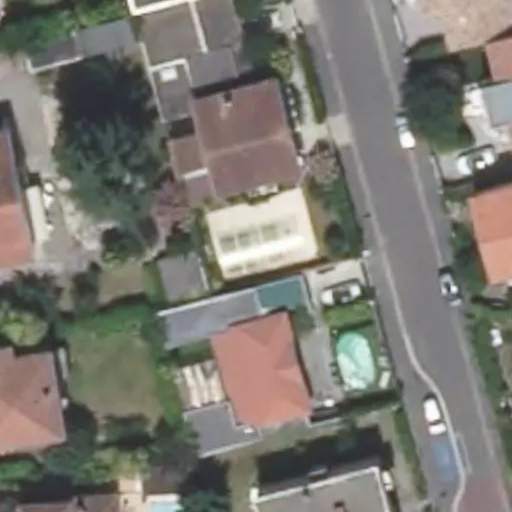pool: (217, 232, 294, 252)
